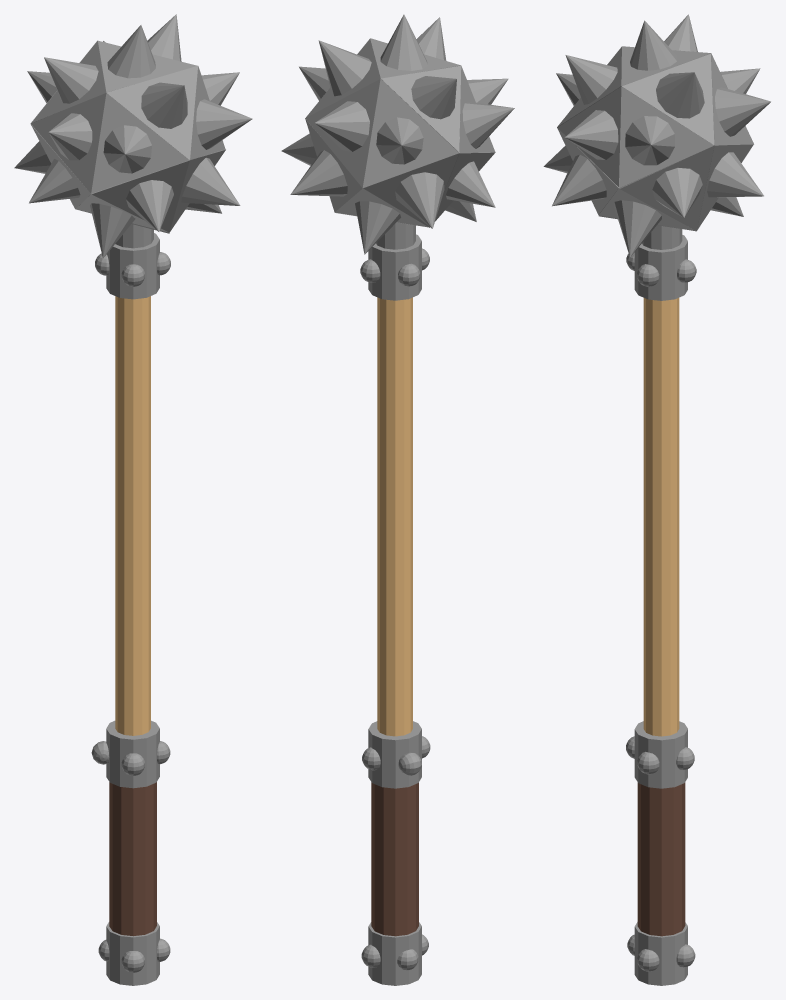
Rendered from weapon-mace.glb.
The picture shows the model from 3 angles, left to right: view 1: azimuth 30°, elevation 25°; view 2: azimuth 150°, elevation 25°; view 3: azimuth 270°, elevation 25°; orthographic projection.
Visible parts, largest first — view 1: Mace; view 2: Mace; view 3: Mace.
Boxes of the visible parts, <box> form: Mace: <box>14,14,252,985</box>; Mace: <box>281,14,514,985</box>; Mace: <box>543,14,770,985</box>.
Size of the model in its own units: 0.27 by 1.2 by 0.2602.
